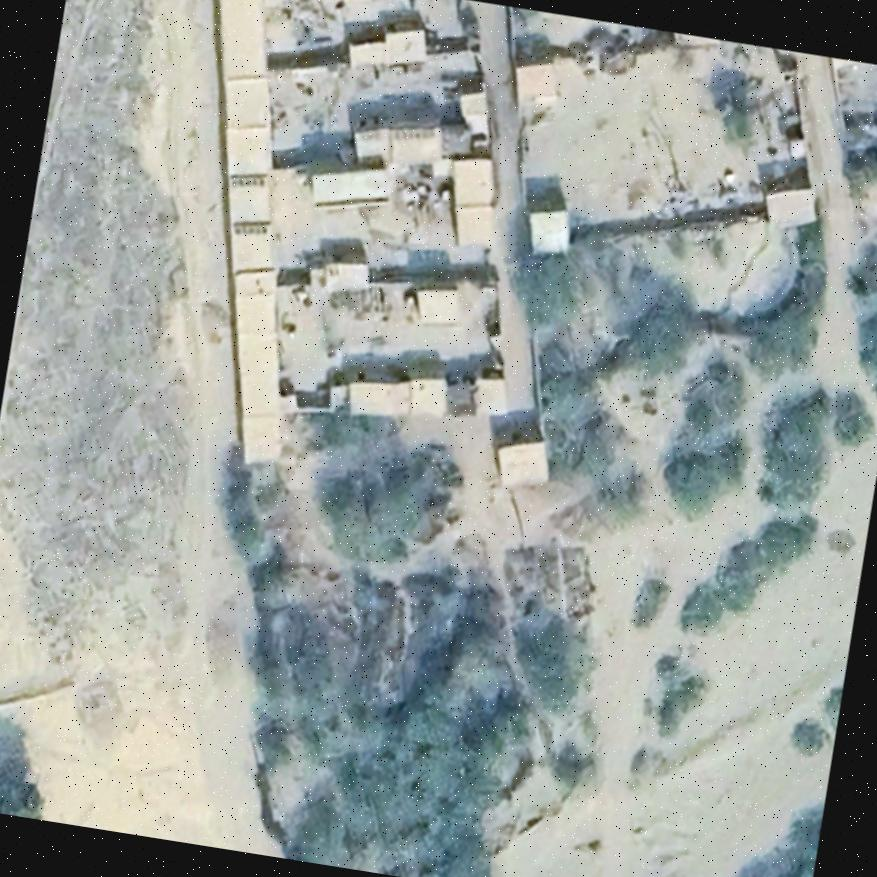Solarpanel: (228, 175, 266, 189), (232, 221, 270, 235)
